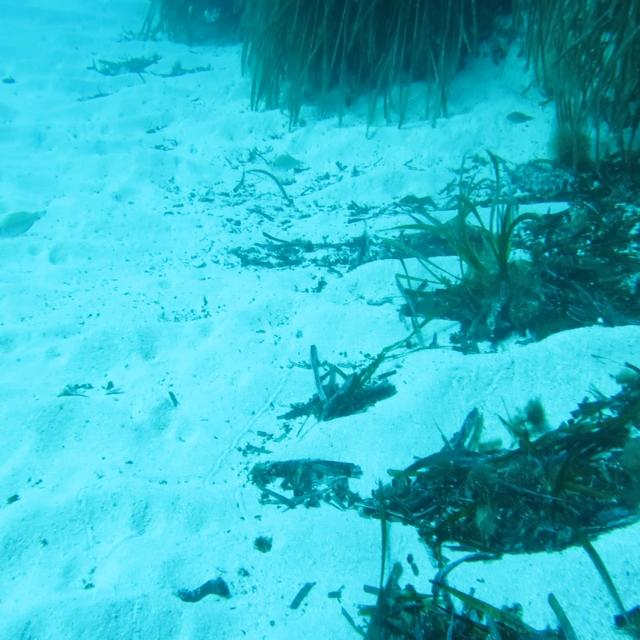BN: (0, 203, 50, 243)
female: (267, 150, 307, 173)
vegetation: (443, 220, 640, 306), (246, 0, 435, 84), (372, 459, 533, 530), (535, 413, 640, 488), (366, 595, 514, 640), (250, 457, 332, 496), (296, 370, 348, 407), (177, 576, 230, 607), (287, 577, 314, 610), (250, 534, 273, 558)
